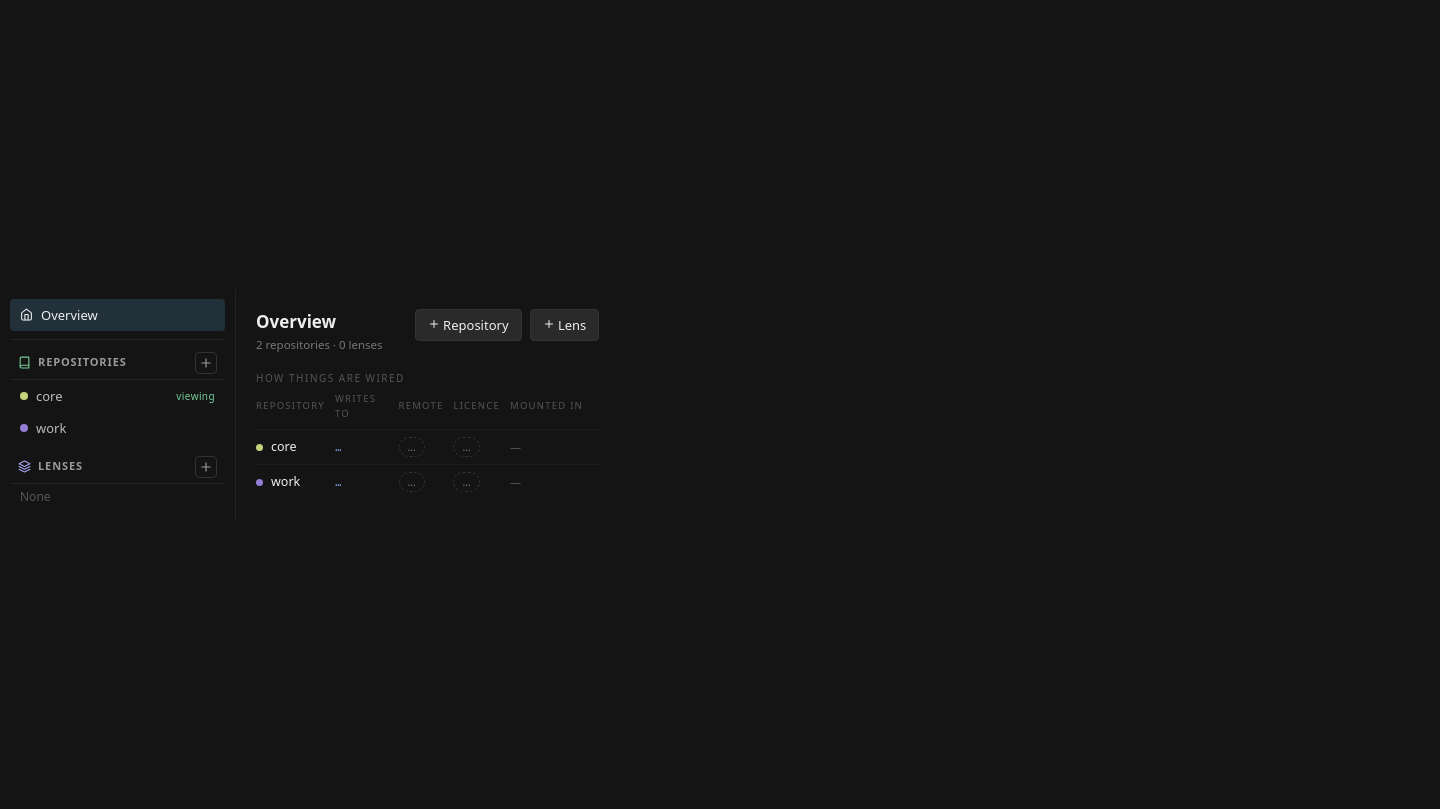
RepoManager › shows a repo detail pane when one is picked from the rail
This screenshot has width=1440, height=809.
Click the button with test id "repomgr-item-core". click: (118, 396)
box: [10,380,225,412]
(page scrolled)
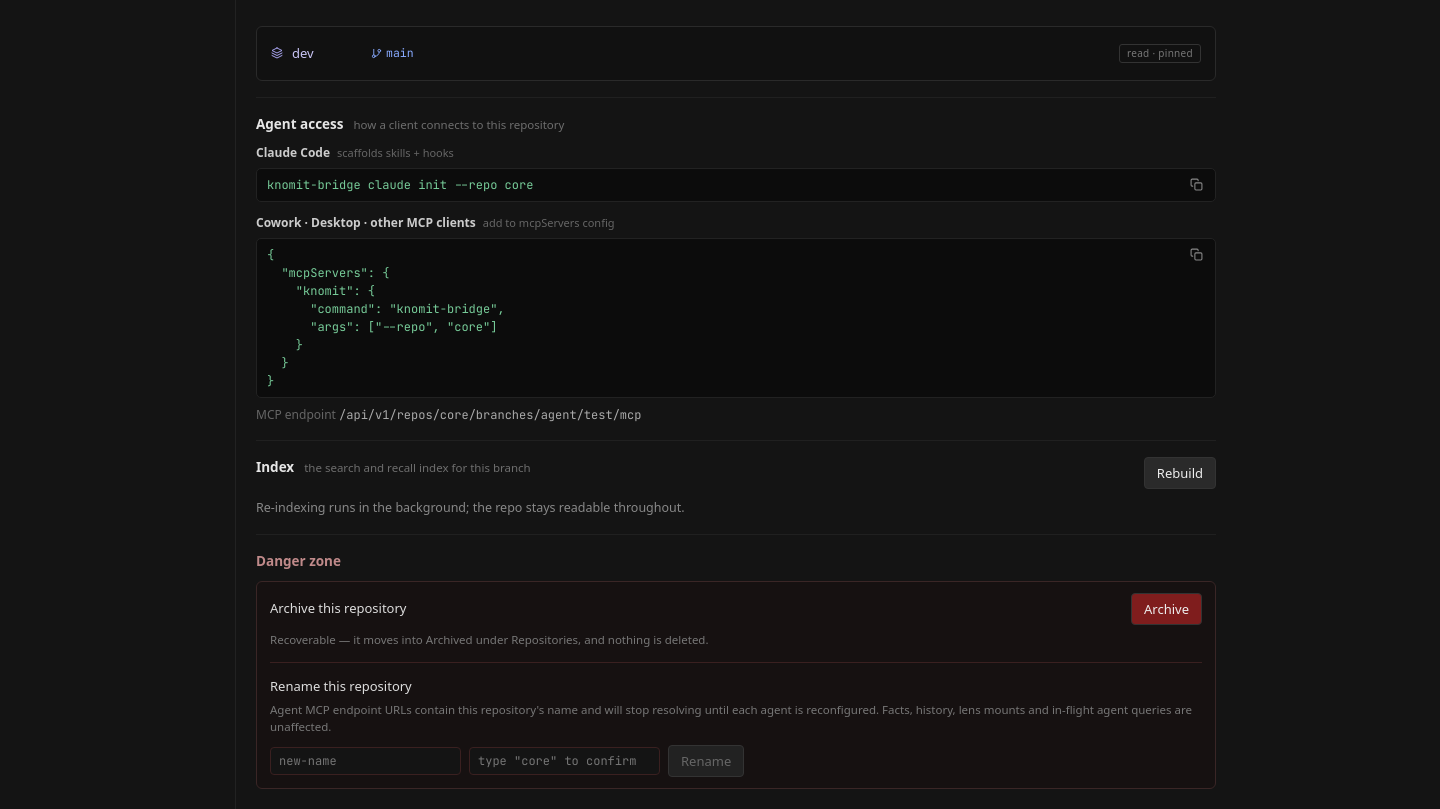
Check: the button with test id "repo-rebuild" is shown, box [1144,457,1216,489]
Check: the button with test id "repo-archive" is shown, box [1131,593,1202,625]
